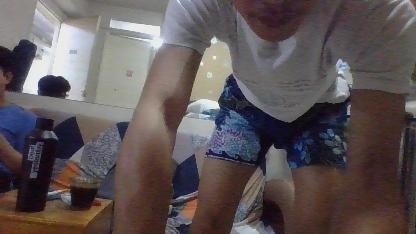Glass Cup: (70, 174, 100, 208)
